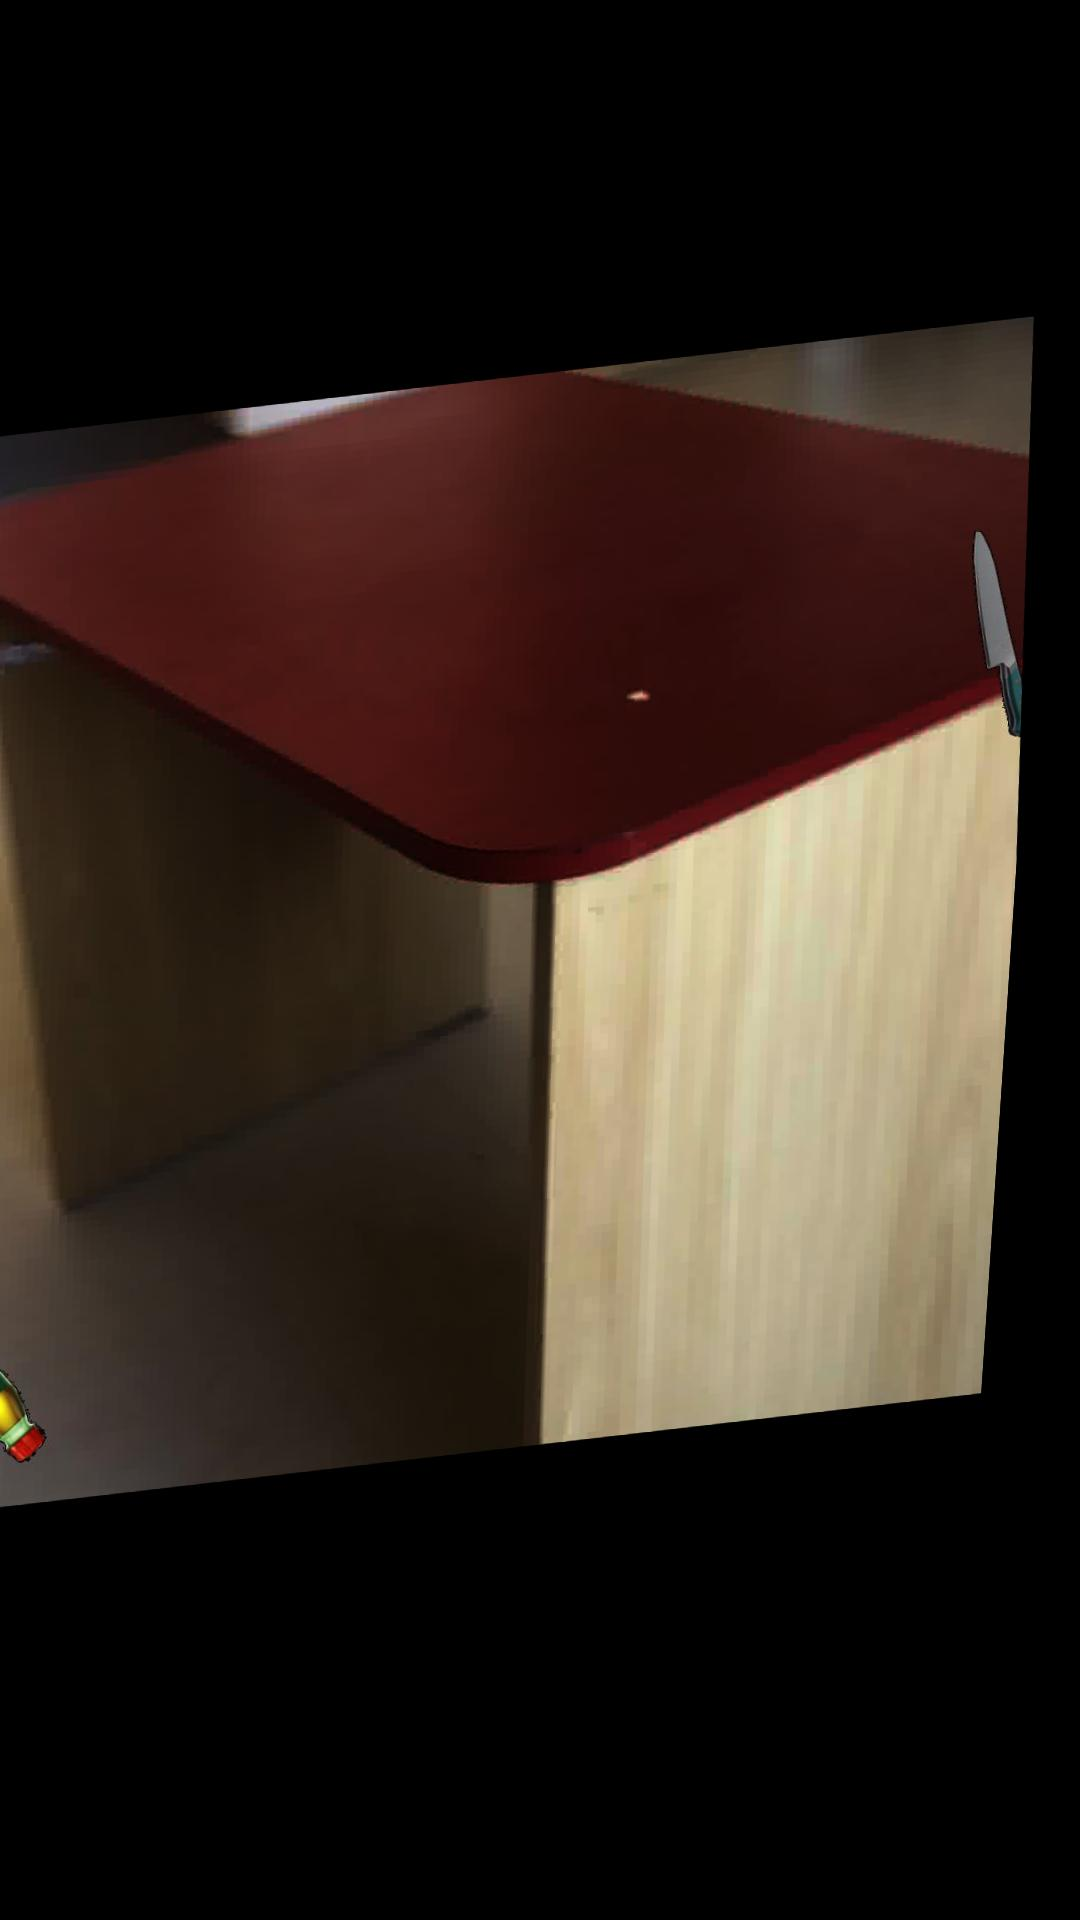guarana: (0, 1352, 66, 1465)
knife: (980, 549, 1034, 756)
